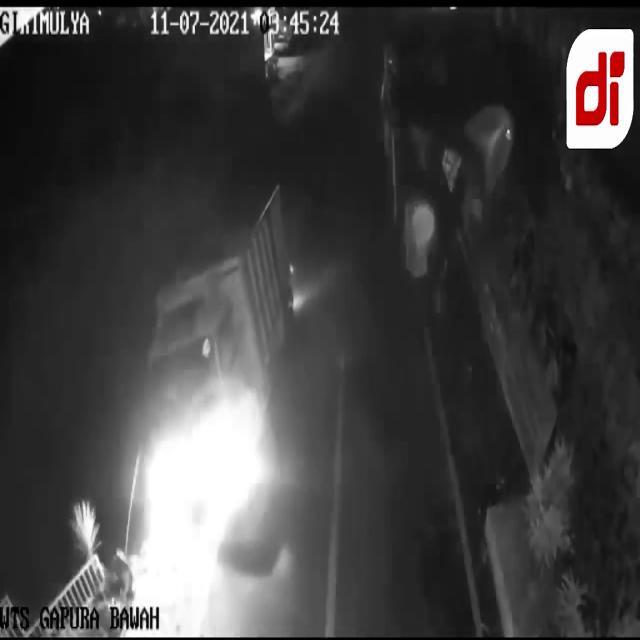normal: (103, 162, 330, 617)
